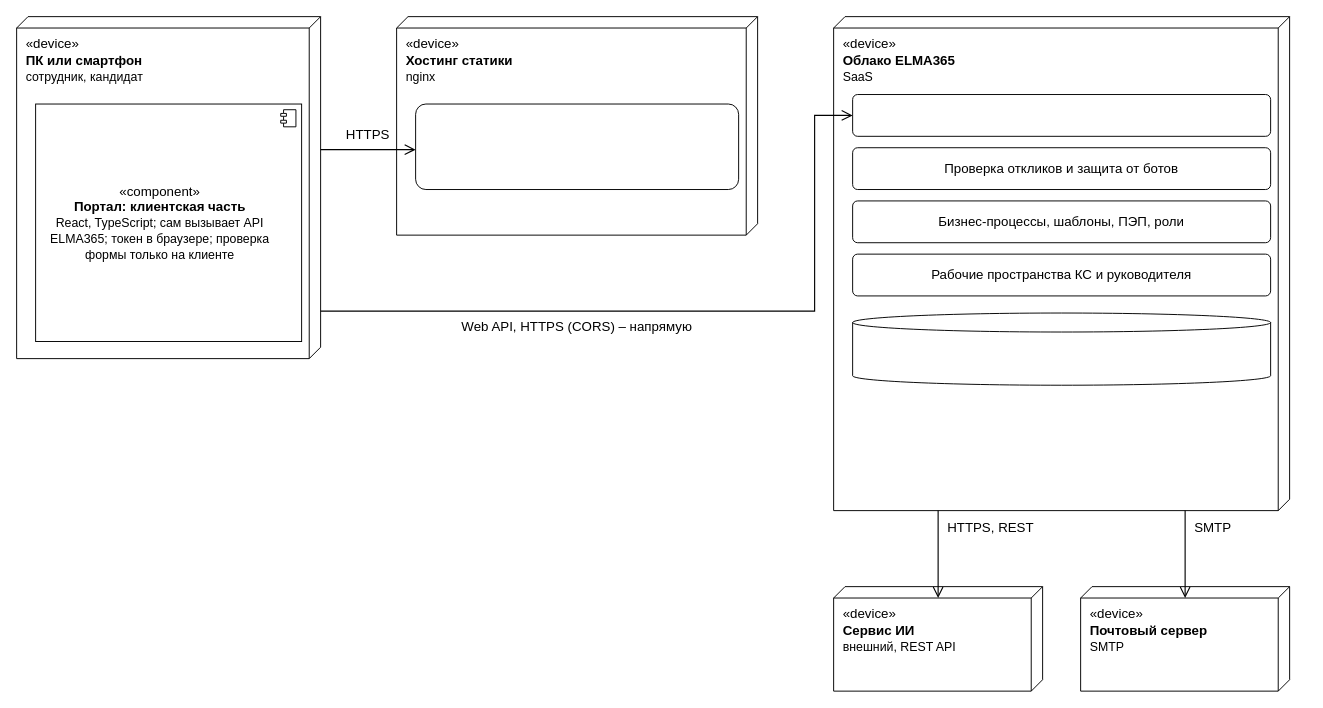
Some shapes in this 1323 by 708 pixel diagram are drawn without their labels. Each missing label, with the centre of its shape:
Модуль API: публичные и закрытые методы: point 1061,115
Файлы портала (HTML, JS, CSS) – только раздача, без логики: point 577,146
Хранилище ELMA365 кадровые данные, файлы, архив: point 1061,348
